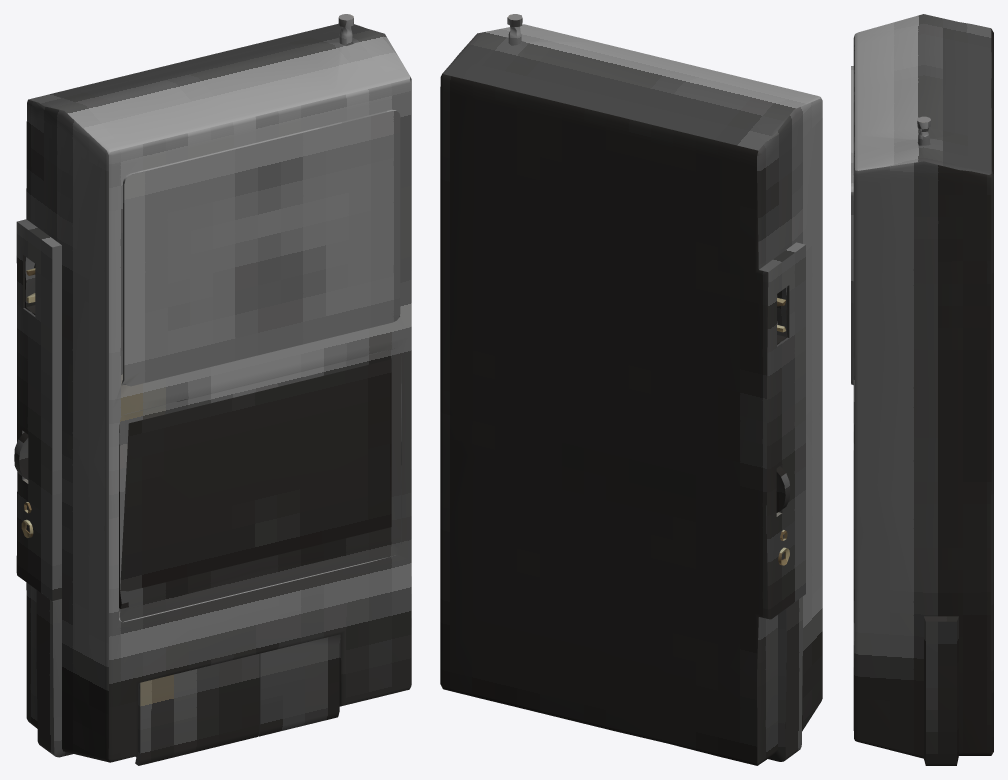
File: cassette_player.glb
3 views of the same model, side by side, from view 1: azimuth 30°, elevation 25°; view 2: azimuth 150°, elevation 25°; view 3: azimuth 270°, elevation 25° (orthographic). The views are drawn at different scales.
Visible parts, largest first — view 1: mesh; view 2: mesh; view 3: mesh.
Part boxes in pixels (x1=…): mesh: x1=14, y1=14, x2=411, y2=765; mesh: x1=440, y1=14, x2=822, y2=765; mesh: x1=851, y1=14, x2=993, y2=765.
Size of the model in its own units: 0.1293 by 0.2368 by 0.0489.
Materials: 1 (1 with a texture image).
